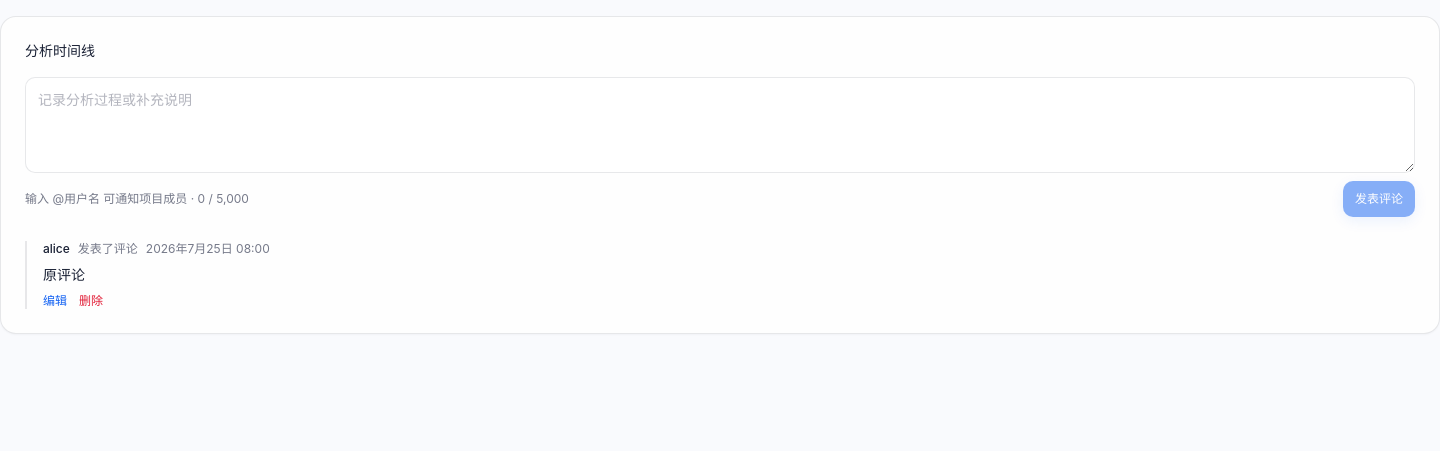
it: ActivityTimeline › edits a comment inline and trims the submitted value
Click the button "编辑". click: coordinates (55, 301)
box: [43, 293, 67, 309]
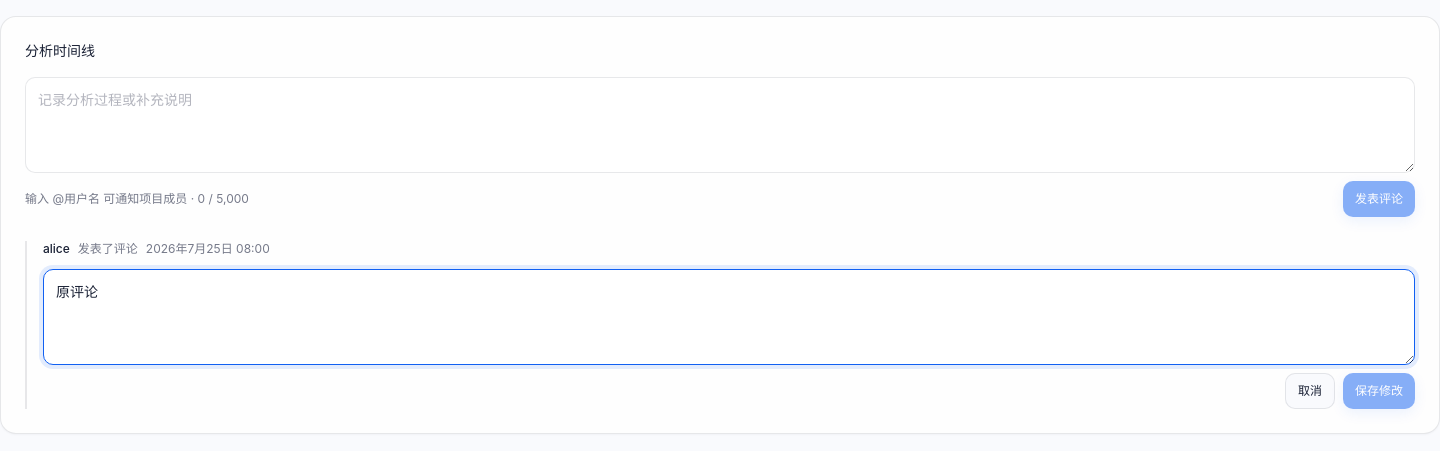
Replace the text in the text box named "编辑评论" with "  修改后的评论  ". click: coordinates (729, 317)
box: [43, 269, 1415, 365]
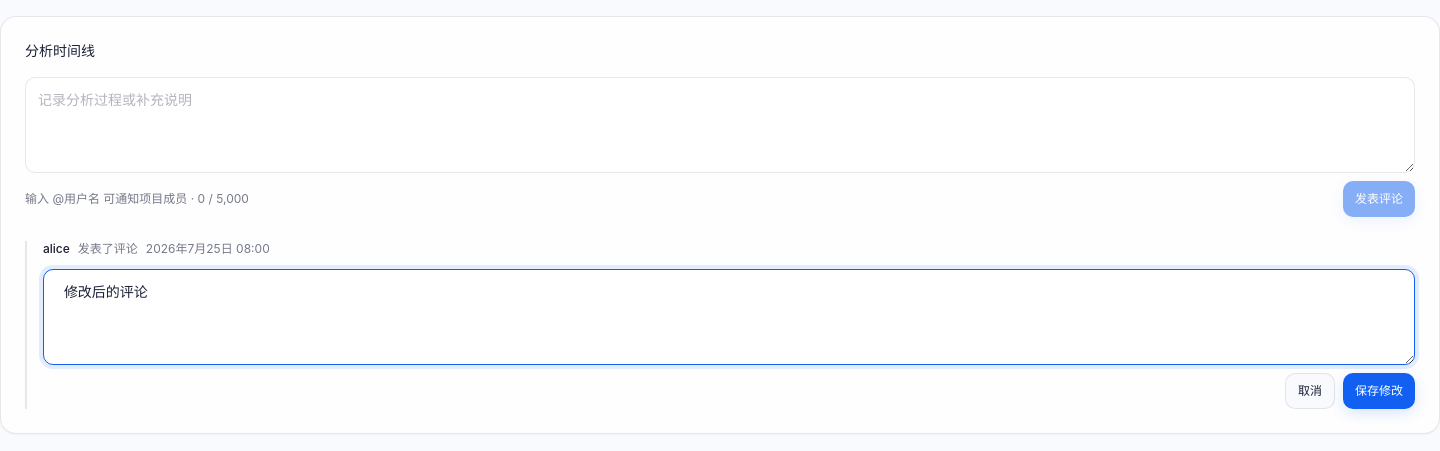
Click the button "保存修改". click: coordinates (1379, 391)
box: [1343, 373, 1415, 409]
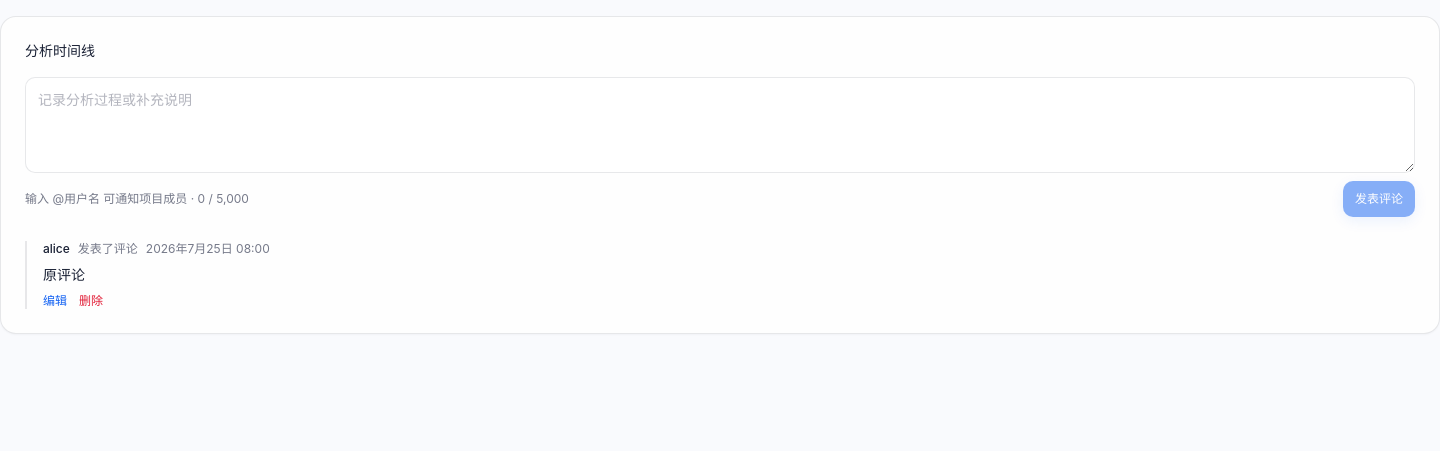
Check: the text box labelled "编辑评论" is gone
